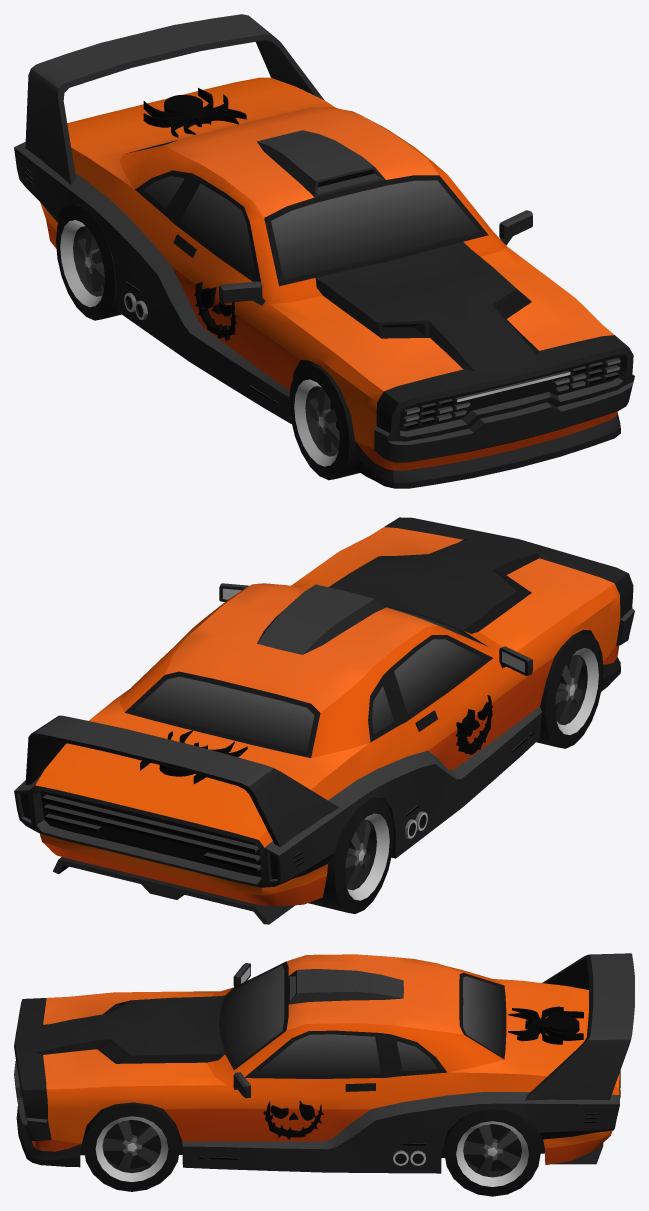
The model's file is car5 (1).fbx.
The picture shows the model from 3 angles, top to bottom: view 1: azimuth 30°, elevation 25°; view 2: azimuth 150°, elevation 25°; view 3: azimuth 270°, elevation 25°; orthographic projection. The views are drawn at different scales.
Parts seen in each view (by area): view 1: Horror_face1_Halloween_props1_0_009, Body_TextureAtlas_0_001, RearRightWheel_TextureAtlas_0; view 2: Horror_face1_Halloween_props1_0_009, RearRightWheel_TextureAtlas_0, Body_TextureAtlas_0_001; view 3: Horror_face1_Halloween_props1_0_009, FrontLeftWheel_TextureAtlas_0, RearLeftWheel_TextureAtlas_0.
Part boxes in pixels (bbox=[...]): Horror_face1_Halloween_props1_0_009: bbox=[14, 14, 634, 488]; Body_TextureAtlas_0_001: bbox=[289, 363, 360, 480]; RearRightWheel_TextureAtlas_0: bbox=[56, 204, 121, 320]; Horror_face1_Halloween_props1_0_009: bbox=[14, 517, 634, 924]; RearRightWheel_TextureAtlas_0: bbox=[308, 797, 393, 913]; Body_TextureAtlas_0_001: bbox=[536, 631, 603, 748]; Horror_face1_Halloween_props1_0_009: bbox=[14, 953, 634, 1173]; FrontLeftWheel_TextureAtlas_0: bbox=[83, 1102, 180, 1191]; RearLeftWheel_TextureAtlas_0: bbox=[444, 1109, 540, 1196].
Size of the model in its own units: 232 by 140 by 492.
Materials: 3 (3 with a texture image).
